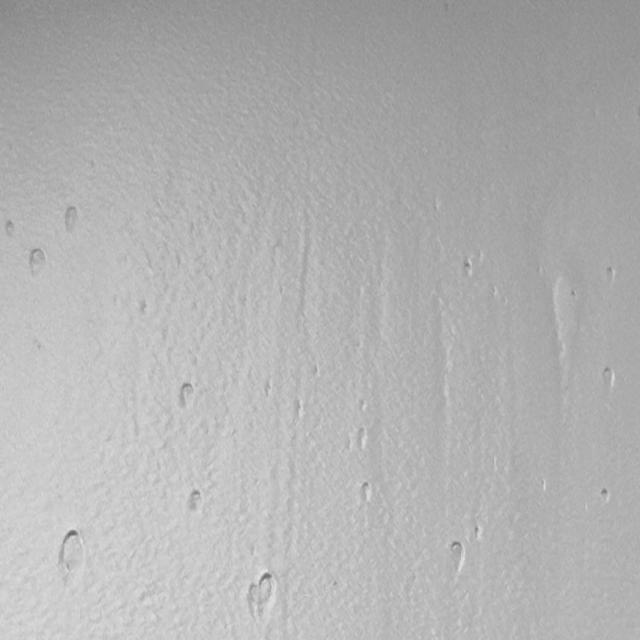pin holes: (242, 570, 280, 626), (55, 527, 92, 577), (25, 244, 49, 276), (60, 205, 84, 236), (445, 540, 467, 573), (175, 381, 198, 411), (184, 487, 205, 515), (597, 365, 616, 394), (359, 482, 377, 507), (354, 426, 371, 451), (462, 258, 478, 280), (291, 397, 306, 420), (597, 487, 613, 507), (4, 219, 19, 240), (604, 264, 619, 285), (137, 298, 152, 318), (473, 524, 485, 542)
